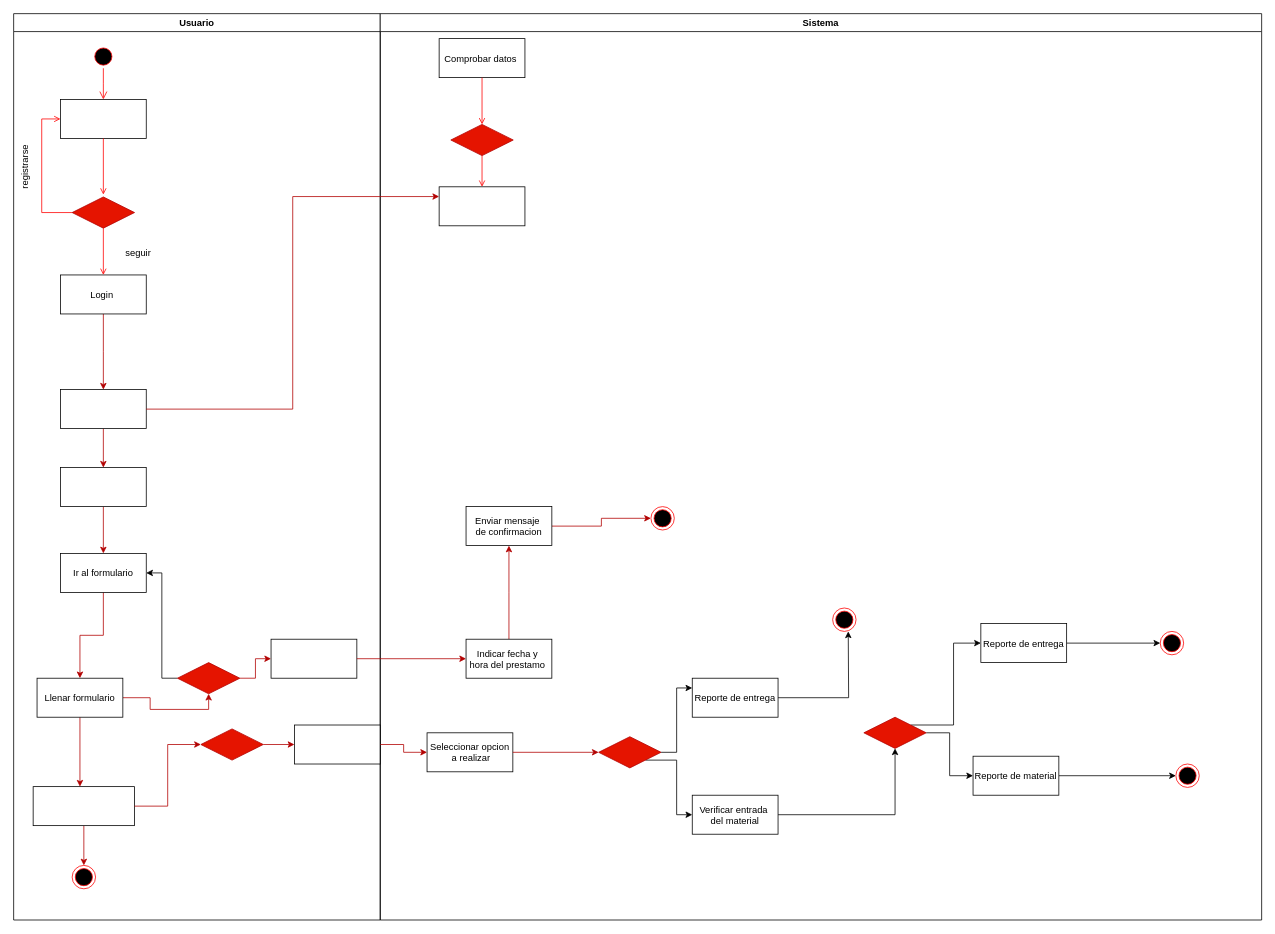
This 1275x934 diagram has some shape labels left out. Each missing label, with the centre of its shape:
"Comprobar tipo de usuario" goes at (x=481, y=206).
"Confirmar material" goes at (x=337, y=744).
"Enviar formulario para obtener la solicitud" goes at (x=313, y=658).
"Ingresar al sistema" goes at (x=103, y=118).
"Ir a opciones de su tipo de usuario" goes at (x=103, y=487).
"Seleccionar tipo de usuario" goes at (x=103, y=409).
"Solicitud del material" goes at (x=83, y=806).
